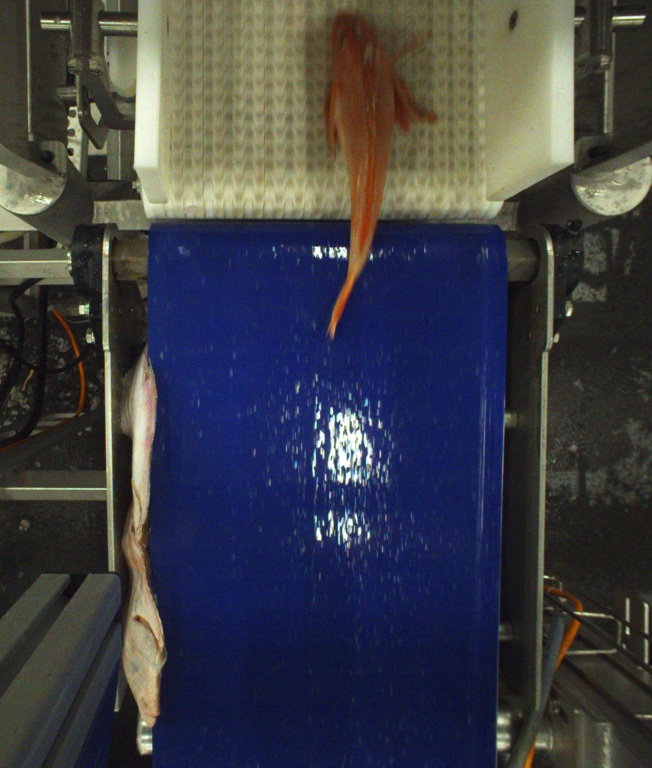GUU: (326, 6, 435, 341)
